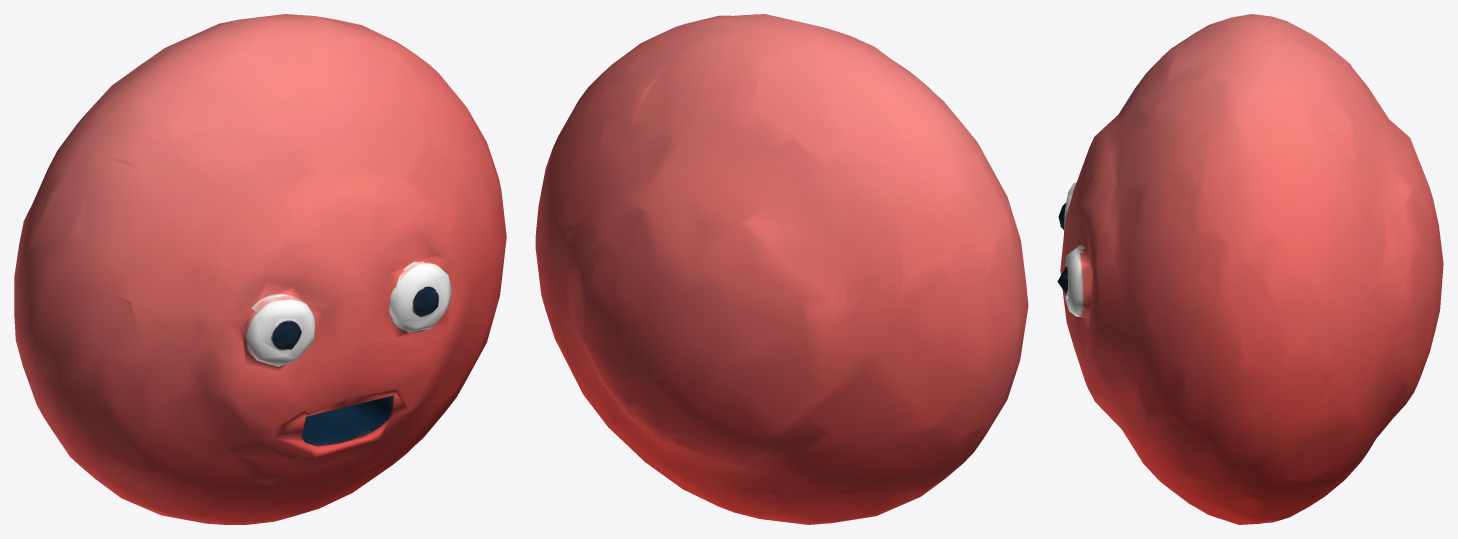
File: ember_3d.glb
3 renders of one model, left to right at view 1: azimuth 30°, elevation 25°; view 2: azimuth 150°, elevation 25°; view 3: azimuth 270°, elevation 25°, orthographic. The views are drawn at different scales.
Visible parts, largest first — view 1: tripo_node_c834bdb5-deb2-4449-be11-31342ca9d33f; view 2: tripo_node_c834bdb5-deb2-4449-be11-31342ca9d33f; view 3: tripo_node_c834bdb5-deb2-4449-be11-31342ca9d33f.
Boxes of the visible parts, x1,y1,x2,y2 form: tripo_node_c834bdb5-deb2-4449-be11-31342ca9d33f: (14, 14, 506, 524); tripo_node_c834bdb5-deb2-4449-be11-31342ca9d33f: (535, 14, 1028, 524); tripo_node_c834bdb5-deb2-4449-be11-31342ca9d33f: (1057, 14, 1443, 524).
Bounding box in the file's own units: 0.9957 × 1 × 0.7516.
Materials: 1 (1 with a texture image).
